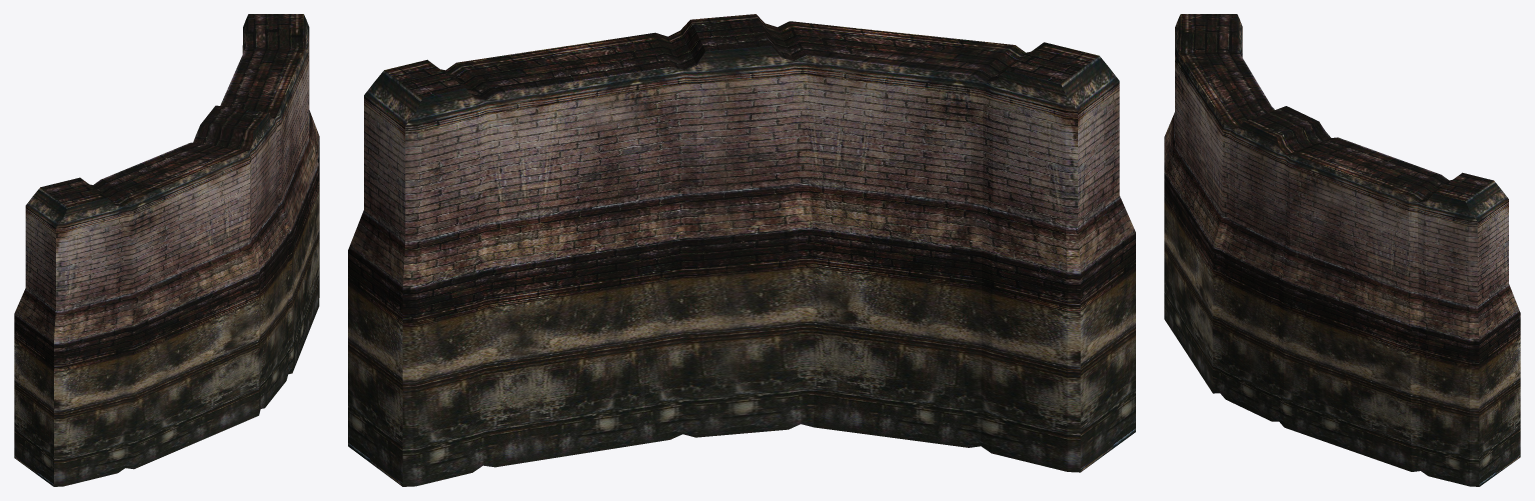
The model's file is Sf_wall_2.FBX.
The picture shows the model from 3 angles, left to right: view 1: azimuth 30°, elevation 25°; view 2: azimuth 150°, elevation 25°; view 3: azimuth 270°, elevation 25°; orthographic projection. The views are drawn at different scales.
Visible parts, largest first — view 1: Box02; view 2: Box02; view 3: Box02.
Part boxes in pixels (x1=…): Box02: x1=14, y1=14, x2=319, y2=486; Box02: x1=348, y1=14, x2=1135, y2=486; Box02: x1=1164, y1=14, x2=1520, y2=486.
Bounding box in the file's own units: 171 × 106 × 124.
1 material, 1 textured.
